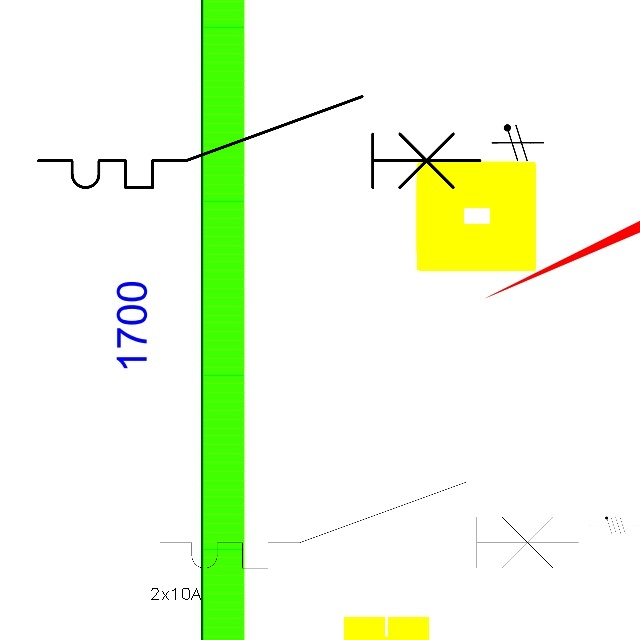interruptor_termomagnetico: (27, 85, 491, 199), (149, 471, 589, 579)
